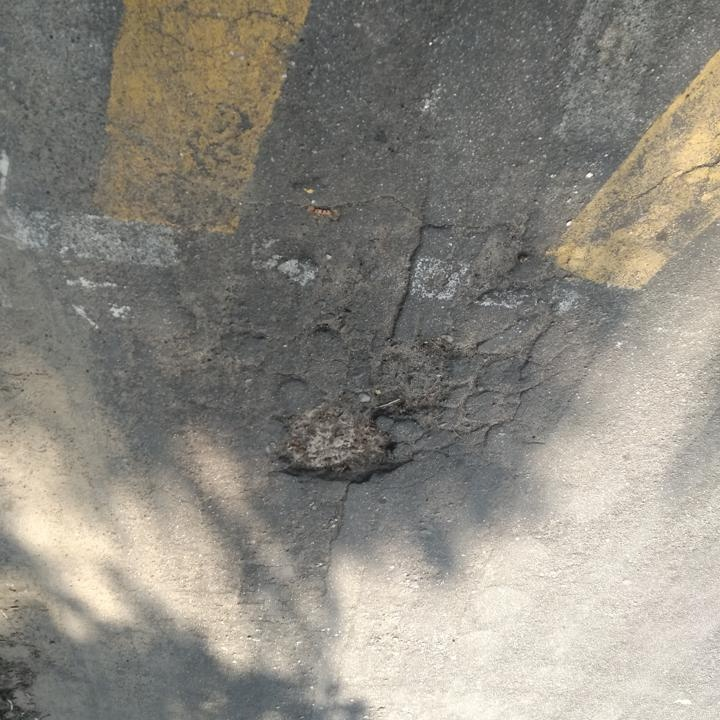pothole: (262, 395, 414, 487), (357, 338, 457, 422), (463, 216, 531, 297)
